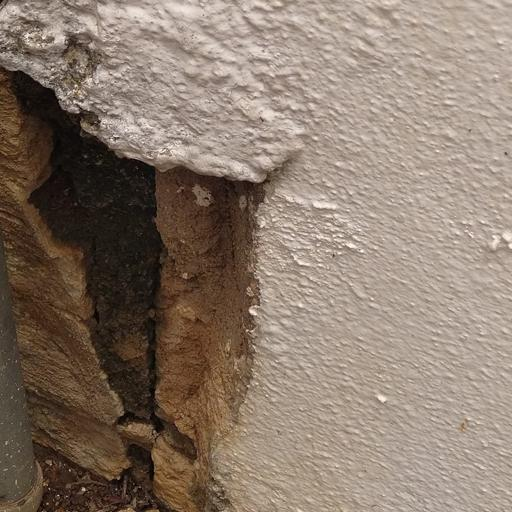spalling: (0, 47, 277, 512)
